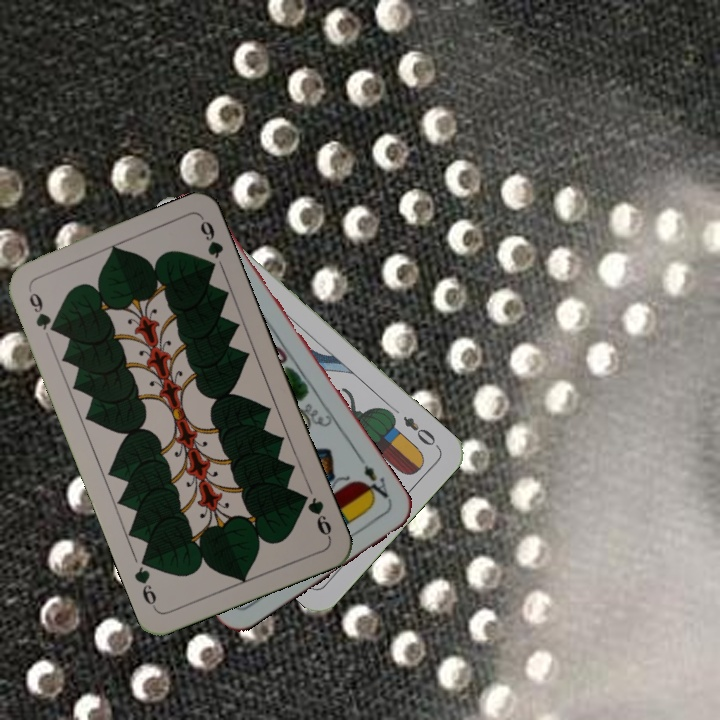EA: (355, 452, 394, 504)
EO: (399, 412, 442, 451)
G9: (295, 489, 334, 542), (24, 284, 60, 336)
